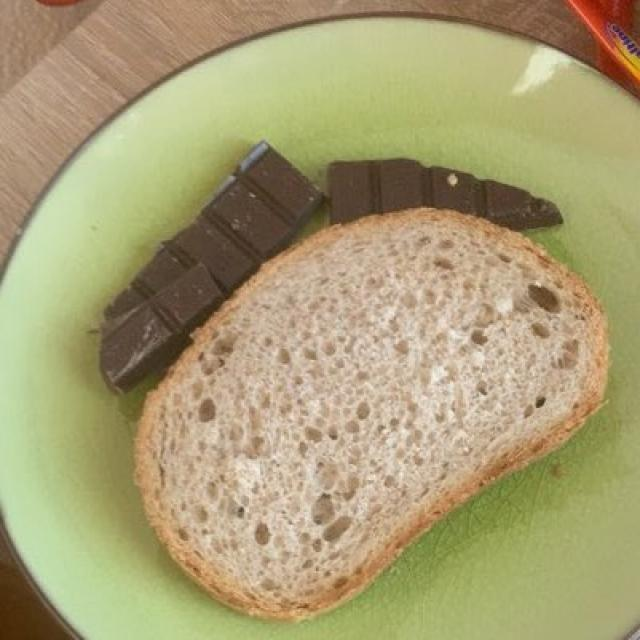bread-whole-wheat: (140, 209, 590, 610)
chocolate: (100, 145, 561, 391)
